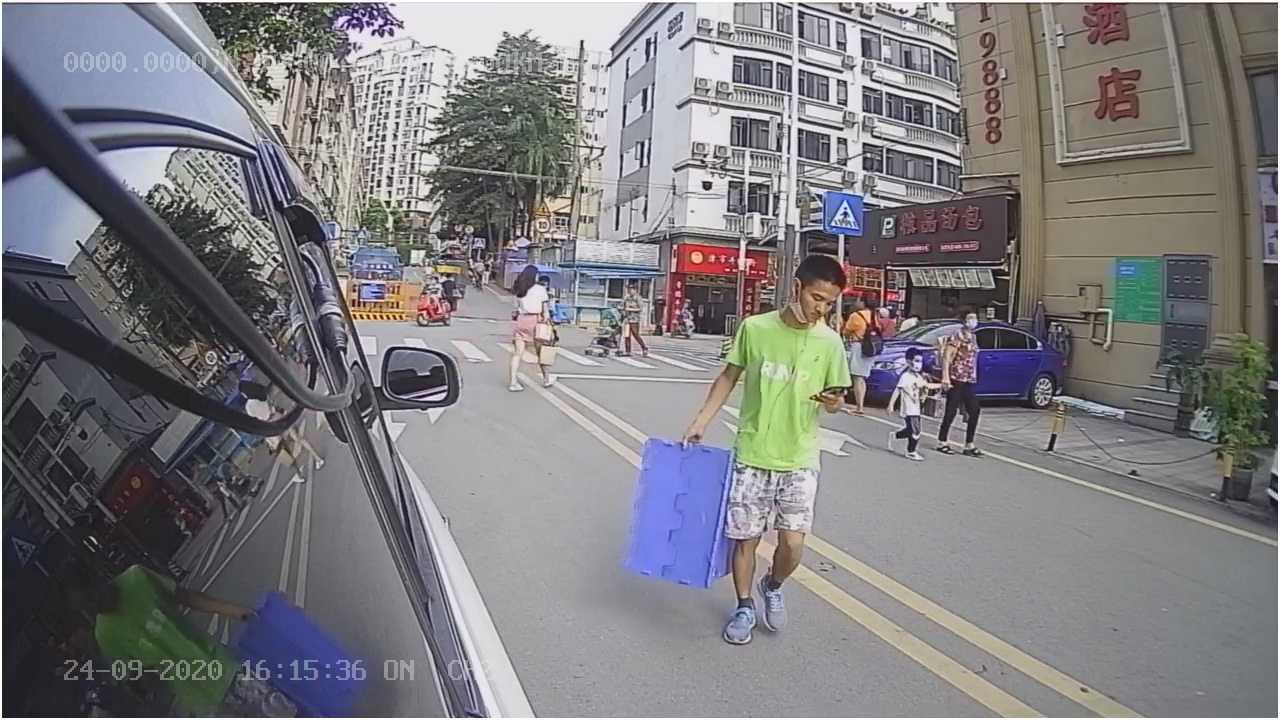person: (650, 251, 857, 652)
